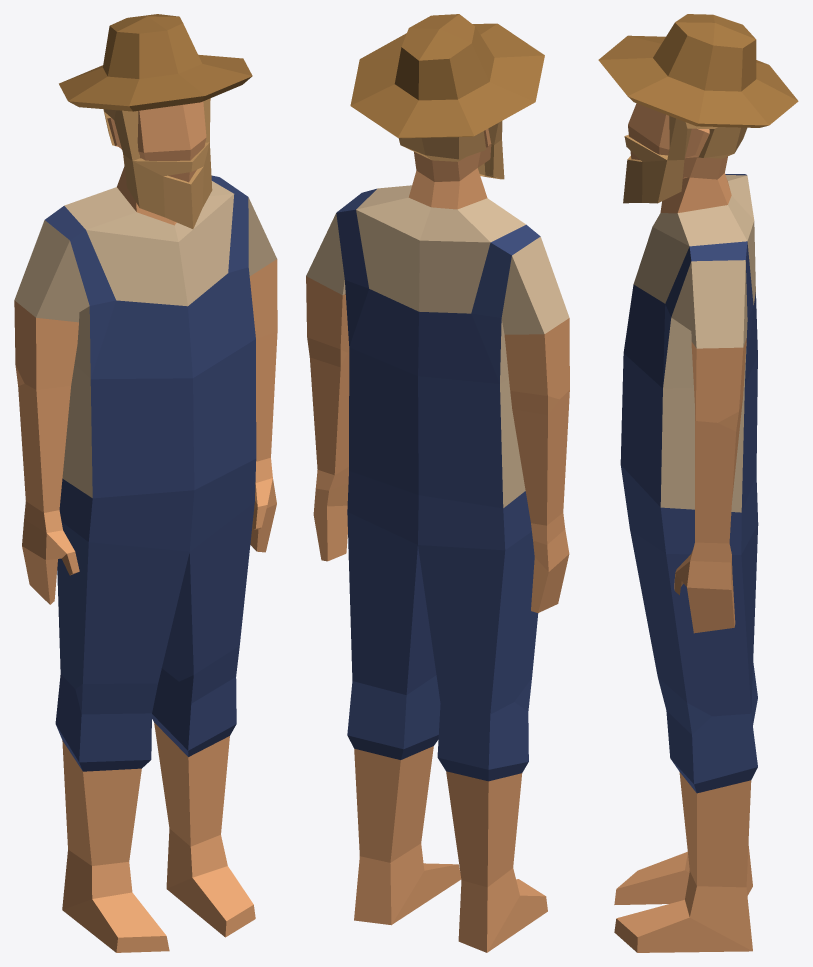
File: man-farm.glb
The picture shows the model from 3 angles, left to right: view 1: azimuth 30°, elevation 25°; view 2: azimuth 150°, elevation 25°; view 3: azimuth 270°, elevation 25°; orthographic projection.
Parts seen in each view (by area): view 1: man-farm; view 2: man-farm; view 3: man-farm.
Part boxes in pixels (<box>): man-farm: <box>14,14,277,952</box>; man-farm: <box>306,14,569,952</box>; man-farm: <box>598,14,798,952</box>.
Size of the model in its own units: 0.5348 by 1.88 by 0.3804.
1 material, 1 textured.
